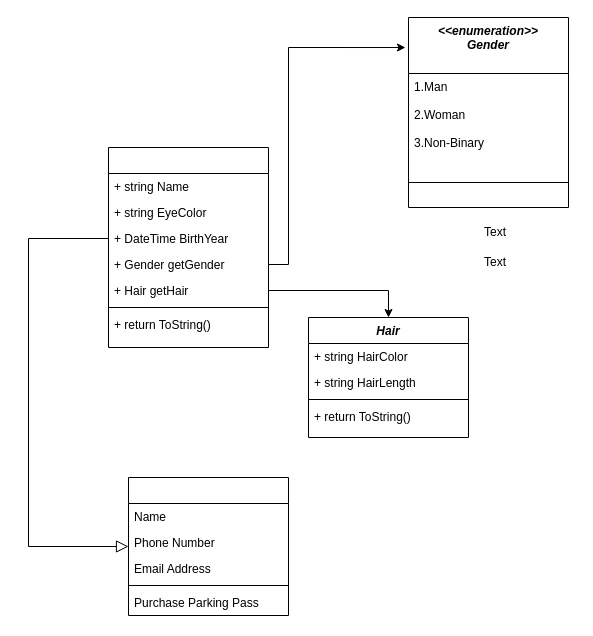
Some shapes in this 593 by 636 pixel diagram are drawn without their labels. The shapes that lost their labels are listed below. From the top down, each one's box as (x1, y1, x2, y2) in pixels, then its label:
(108, 146, 268, 348): Person
(128, 476, 288, 616): Program
